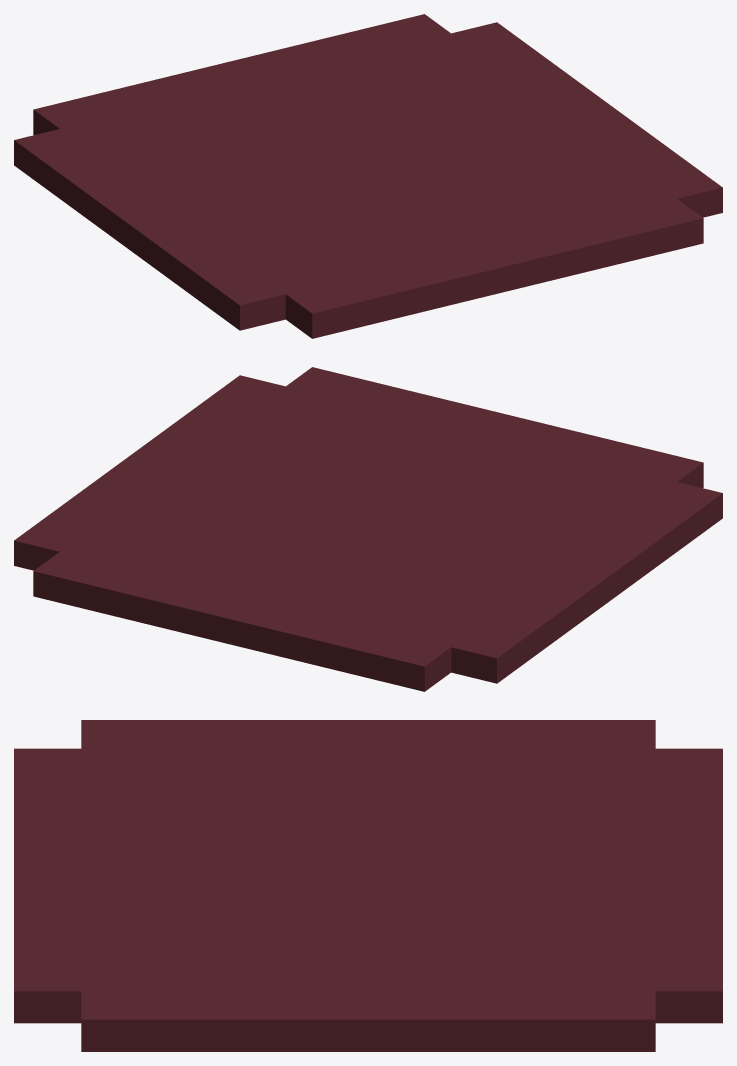
The model's file is Fourway.fbx.
The picture shows the model from 3 angles, top to bottom: view 1: azimuth 30°, elevation 25°; view 2: azimuth 150°, elevation 25°; view 3: azimuth 270°, elevation 25°; orthographic projection. The views are drawn at different scales.
Parts seen in each view (by area): view 1: Fourway; view 2: Fourway; view 3: Fourway.
Part boxes in pixels (left/top/right/bottom): Fourway: left=14, top=14, right=722, bottom=338; Fourway: left=14, top=367, right=722, bottom=691; Fourway: left=14, top=720, right=722, bottom=1051.
Size of the model in its own units: 100 by 5 by 100.
